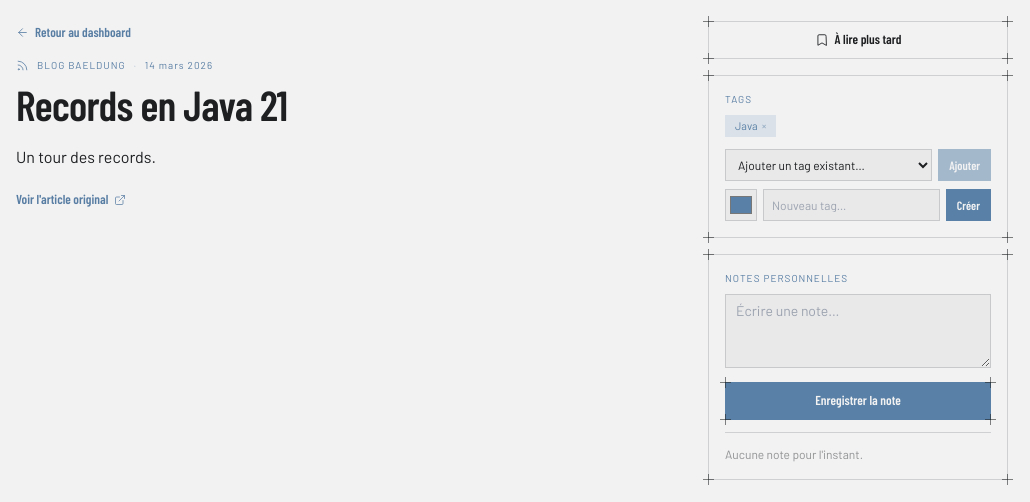
Test case: ArticleDetail › marque l'article « à lire plus tard »
Step 1. Click the button "À lire plus tard" → {"x": 858, "y": 40}, box [708,21,1008,58]
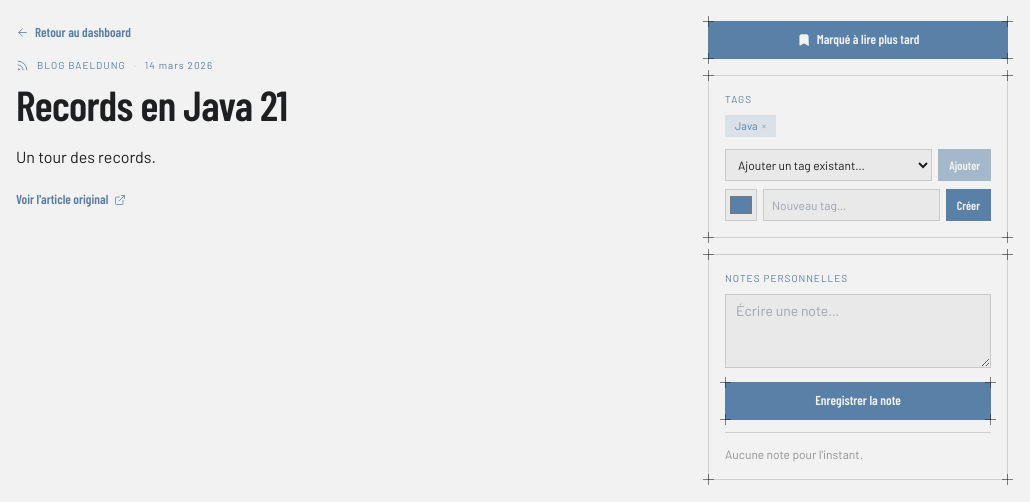
Now the button "Marqué à lire plus tard" is shown, box [708,21,1008,58]
